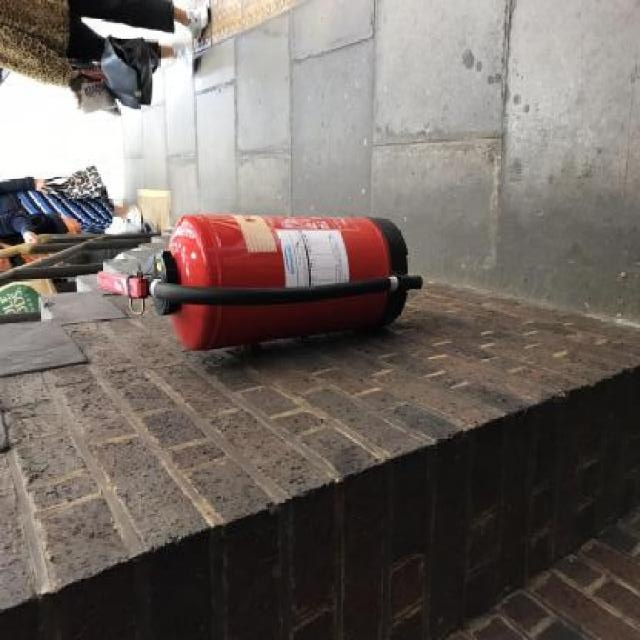fire extinguisher: (96, 215, 424, 353)
